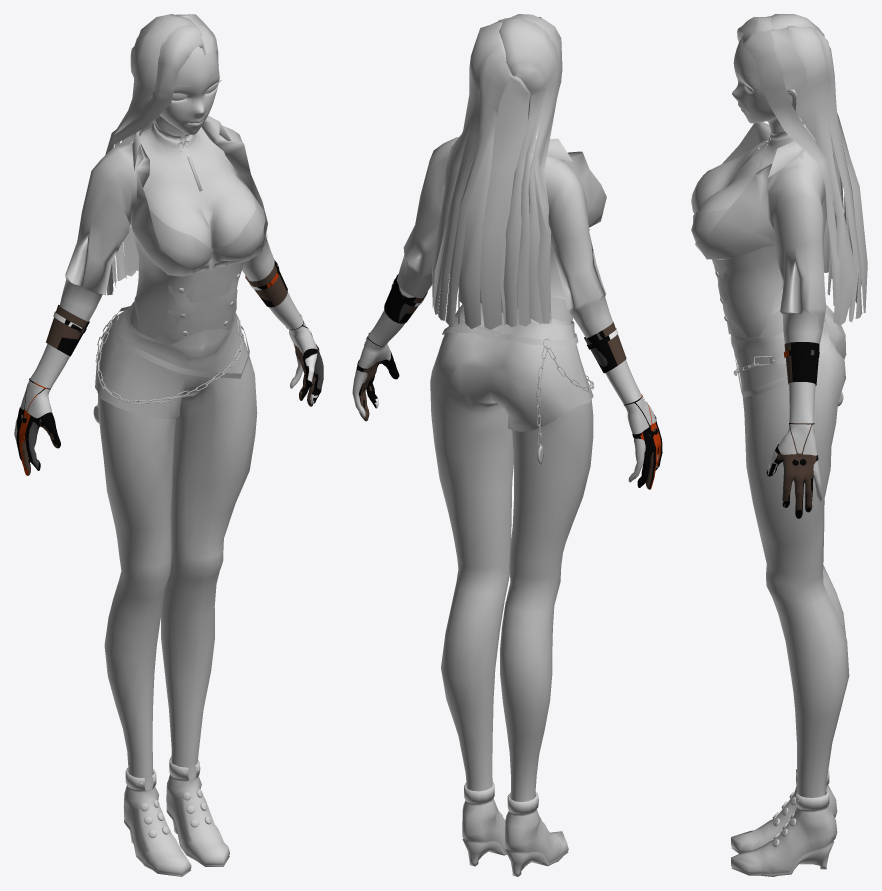
3 renders of one model, left to right at view 1: azimuth 30°, elevation 25°; view 2: azimuth 150°, elevation 25°; view 3: azimuth 270°, elevation 25°, orthographic.
Visible parts, largest first — view 1: RBody, Lower Cloth, Upper Cloth, RShoes, RHair, Inner; view 2: Lower Cloth, RHair, RBody, Upper Cloth, RShoes; view 3: Lower Cloth, Upper Cloth, RHair, RBody, RShoes, Inner.
Boxes of the visible parts, x1,y1,x2,y2 form: RBody: (14,25,317,789); Lower Cloth: (93,302,257,766); Upper Cloth: (16,115,323,475); RShoes: (123,757,229,876); RHair: (104,14,218,295); Inner: (127,117,265,331); Lower Cloth: (430,304,594,790); RHair: (432,14,562,329); RBody: (352,20,656,801); Upper Cloth: (355,137,662,489); RShoes: (462,782,568,876); Lower Cloth: (730,305,849,797); Upper Cloth: (695,122,826,518); RHair: (737,14,867,326); RBody: (694,35,845,797); RShoes: (731,769,837,876); Inner: (691,117,807,241).
Size of the model in its own units: 336 by 896 by 170.
